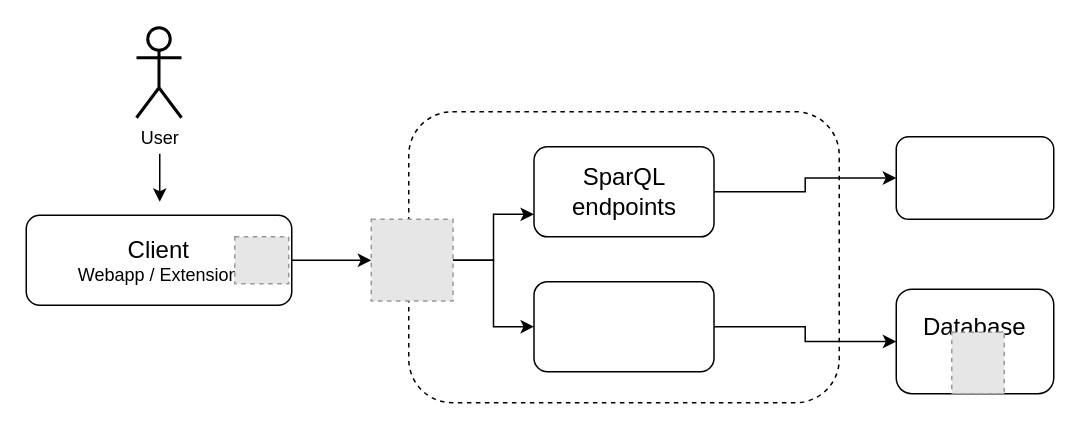
The diagram is 1080 pixels wide and 429 high, and some of its shapes have lost their labels. Grey dashed boxes stand in for pictures. Here are the shapes that lost their labels. From the top down, the centre of each, then its label:
(974,177): Open datasets
(623,326): User endpoints
